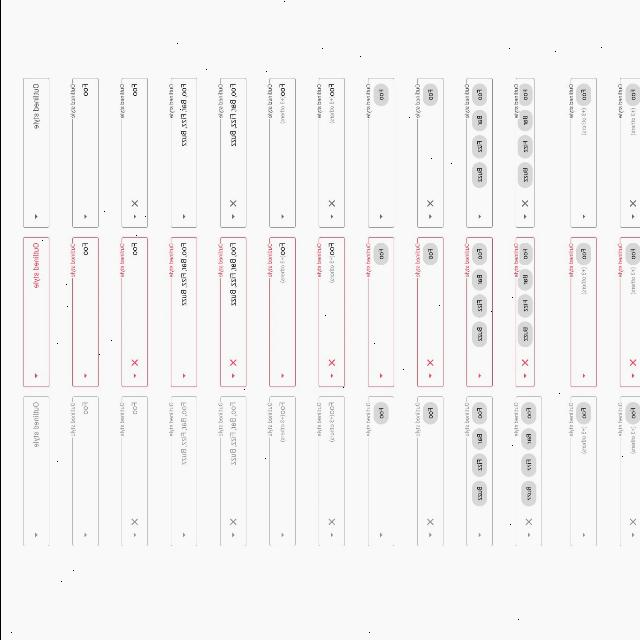VCombobox: (216, 394, 248, 548), (314, 394, 346, 548), (68, 235, 100, 388), (364, 235, 396, 388), (566, 235, 598, 388), (314, 76, 346, 228), (216, 76, 247, 228), (168, 235, 198, 389), (266, 235, 296, 389), (568, 394, 598, 548), (512, 394, 542, 548), (217, 235, 247, 388), (20, 76, 50, 228), (68, 76, 98, 228), (266, 76, 296, 228), (266, 395, 296, 547), (414, 395, 444, 547), (414, 76, 444, 228), (364, 76, 394, 228), (567, 76, 597, 228), (414, 235, 444, 387), (315, 236, 345, 388), (463, 76, 493, 228), (463, 235, 493, 387), (119, 395, 148, 547), (463, 395, 492, 547), (168, 394, 196, 548), (22, 395, 50, 547), (70, 395, 98, 547), (120, 76, 148, 228), (120, 237, 148, 389), (168, 76, 196, 228), (366, 395, 394, 547), (22, 235, 48, 388), (616, 235, 640, 388), (616, 76, 640, 228), (616, 395, 640, 547), (512, 235, 536, 387), (512, 76, 534, 228)
